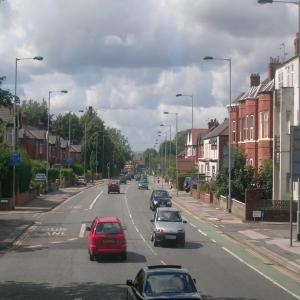Vehicle-registration-plate: (103, 240, 117, 245), (167, 236, 178, 240)
